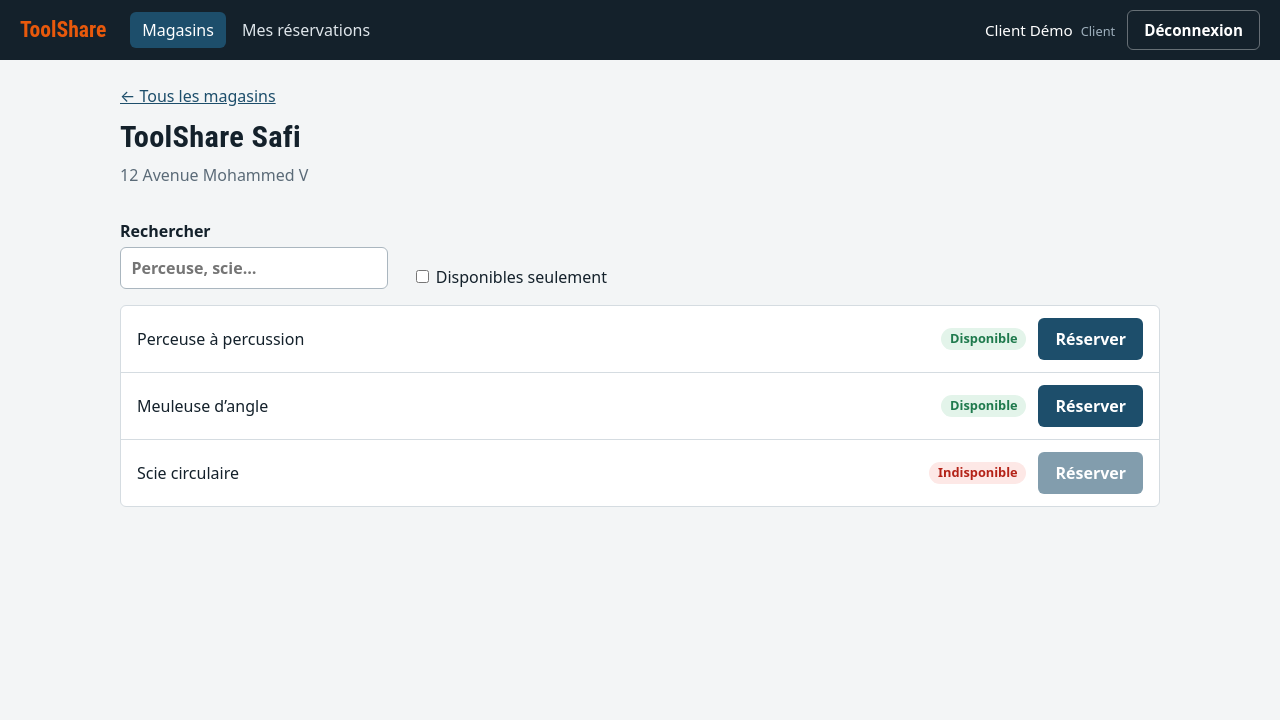
Test: reservation › books a free slot and shows the reference
Expected: the heading "ToolShare Safi" is shown, [120,120,308,155]
Click the button "Réserver" in the row of "Perceuse à percussion".
click(1091, 339)  # box [1038,318,1143,360]
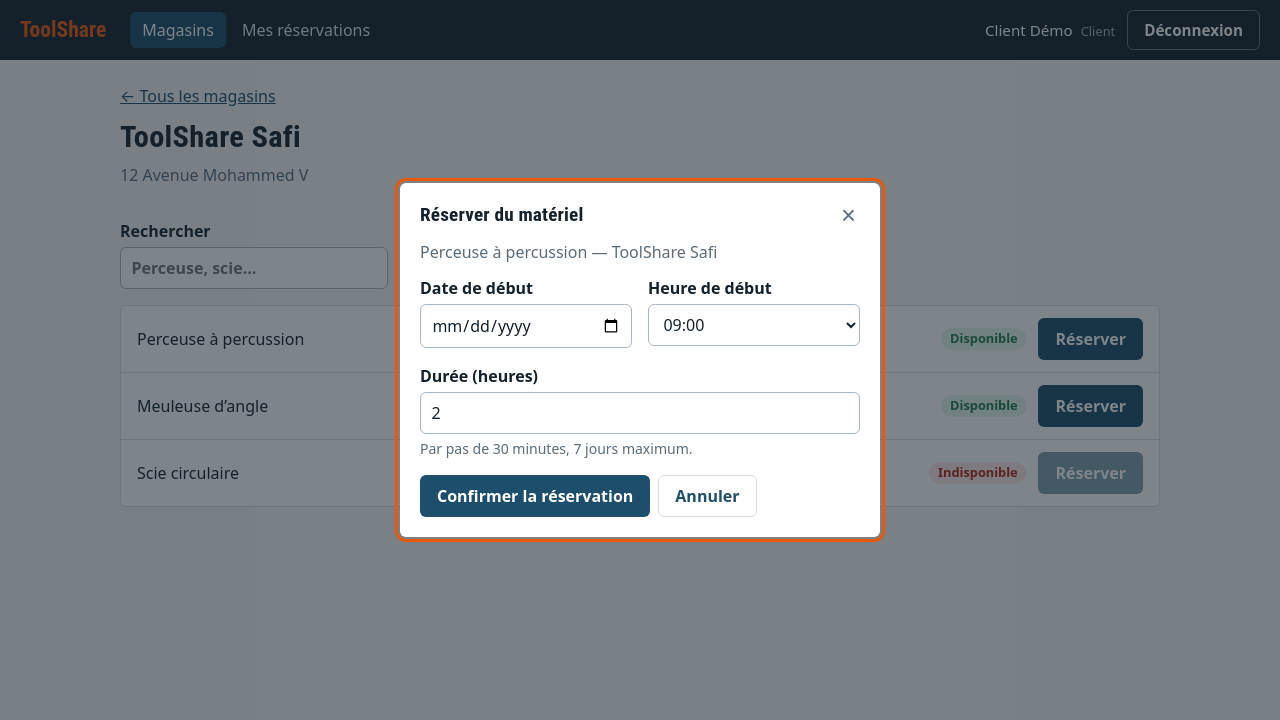
Type "2031-03-14" into the date field labelled "Date de début".
click(526, 326); type("2031-03-14")  # box [420,304,632,348]
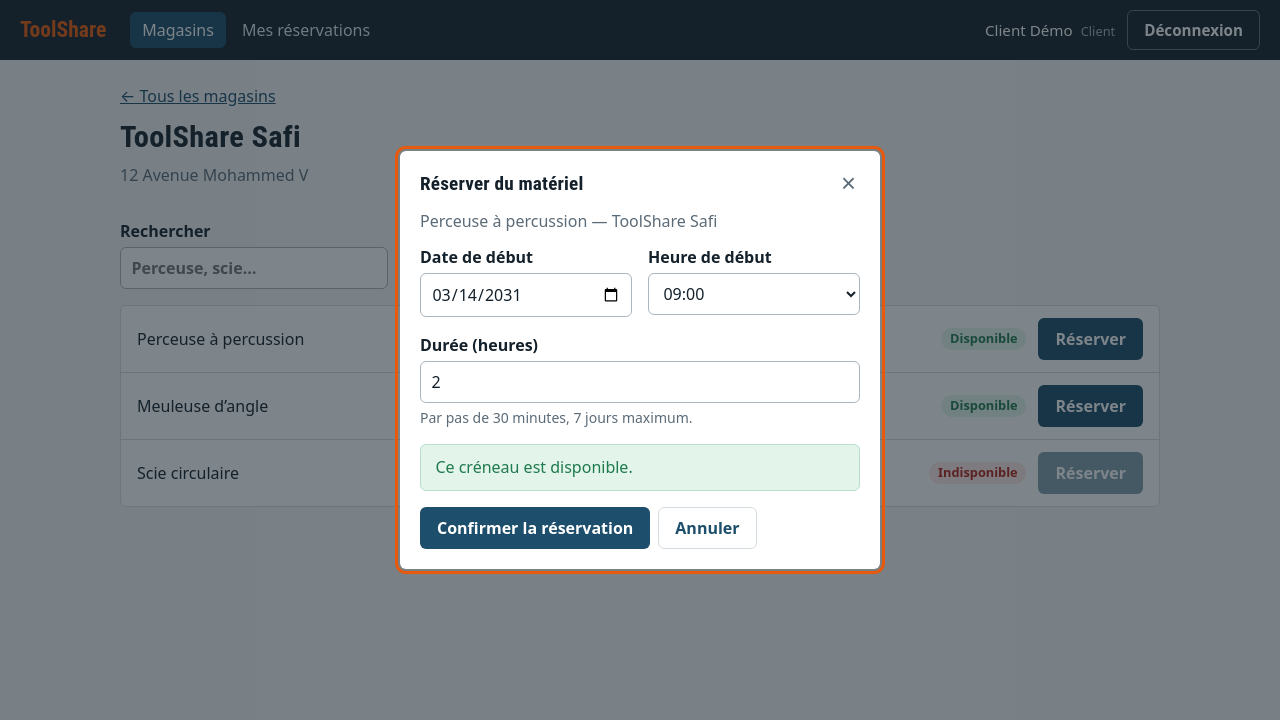
Expected: the text "Ce créneau est disponible." is shown, [420,444,860,491]
Click the button "Confirmer la réservation".
click(535, 528)  # box [420,507,650,549]
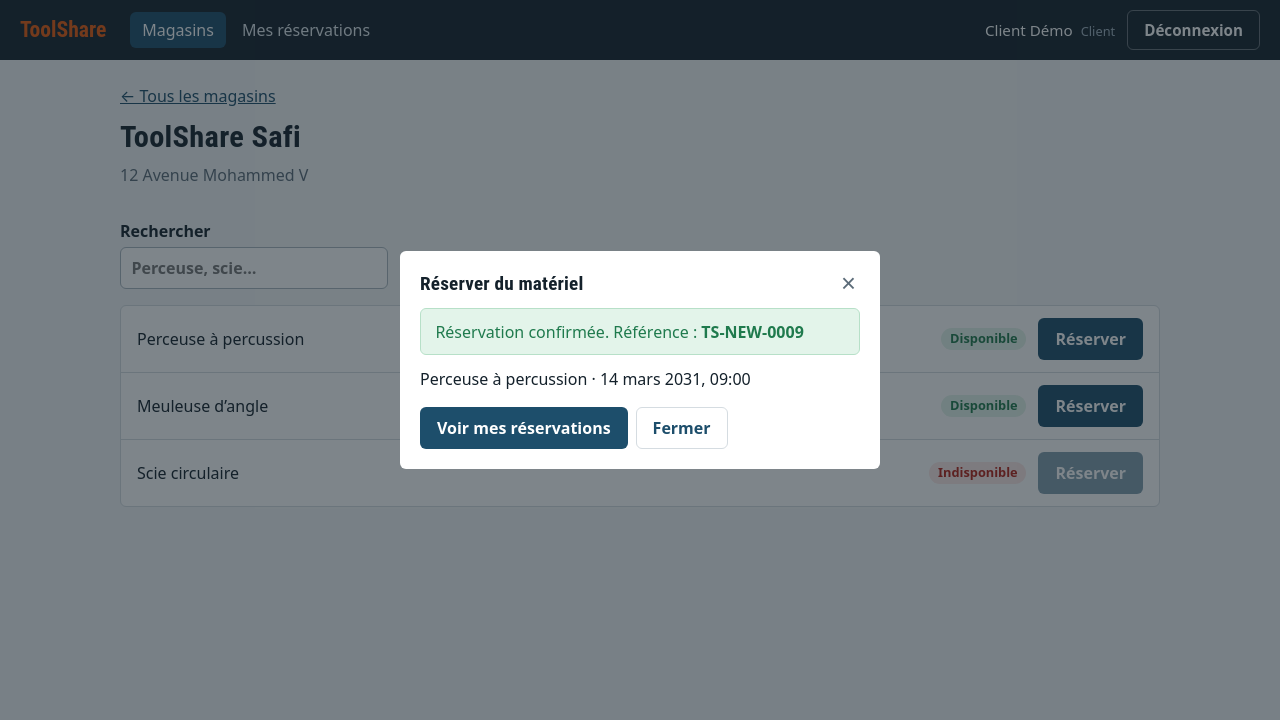
Expected: the text "TS-NEW-0009" is shown, [701,321,804,343]
